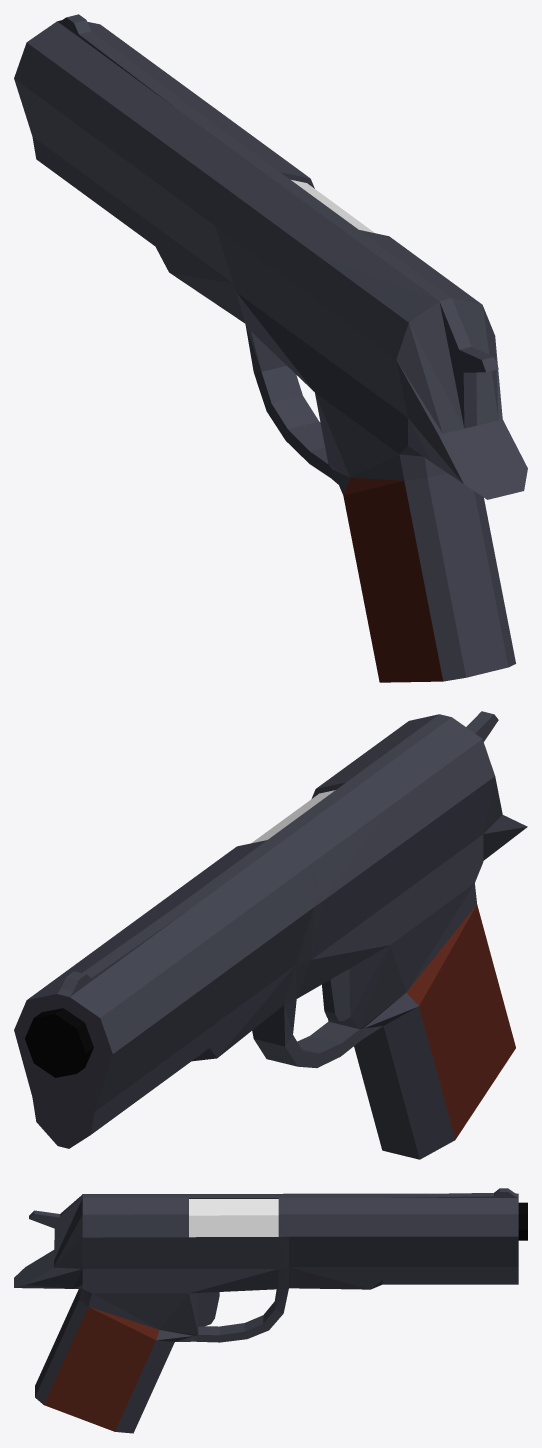
Rendered from 1911.fbx_Collection.fbx.
3 renders of one model, top to bottom at view 1: azimuth 30°, elevation 25°; view 2: azimuth 150°, elevation 25°; view 3: azimuth 270°, elevation 25°, orthographic. The views are drawn at different scales.
Parts seen in each view (by area): view 1: Pistol; view 2: Pistol; view 3: Pistol.
Part boxes in pixels (<box>): Pistol: <box>14,14,527,682</box>; Pistol: <box>14,711,527,1159</box>; Pistol: <box>14,1188,527,1433</box>.
Size of the model in its own units: 7.35 by 29.62 by 57.95.
